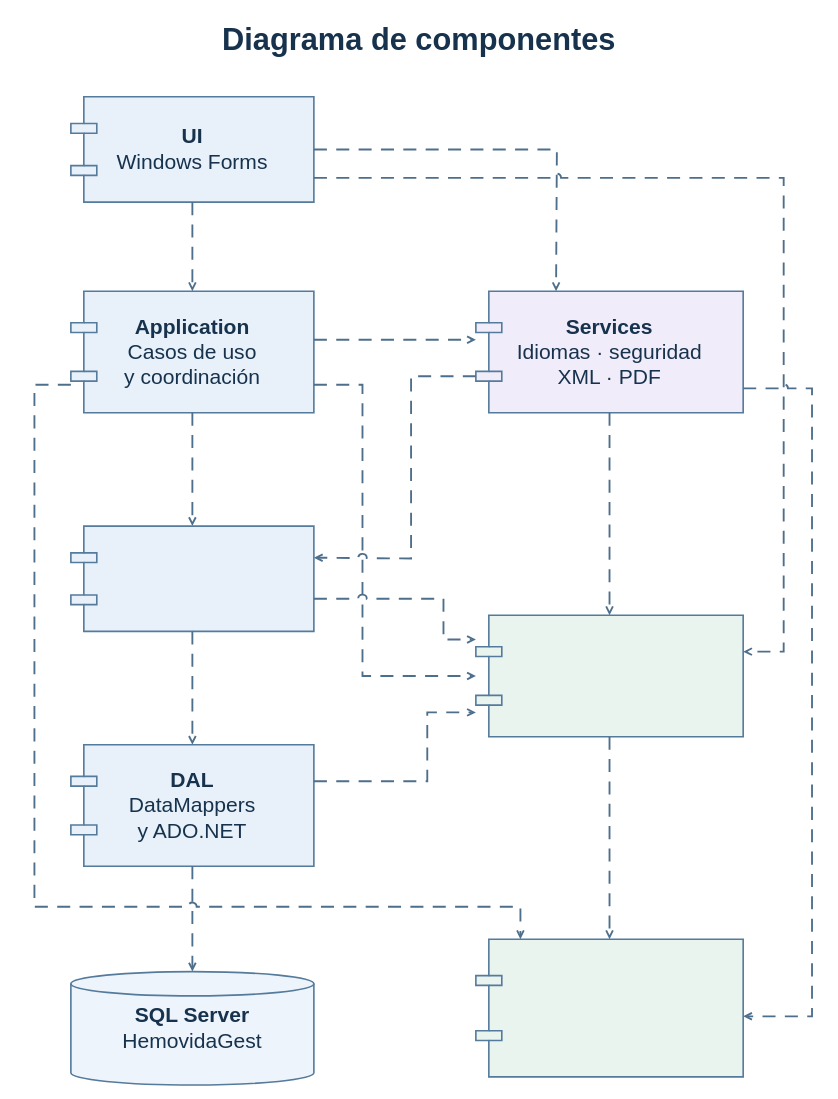
Some shapes in this 838 by 1099 pixel diagram are drawn without their labels. The box of each missing label's shape, as (x1, y1, x2, y2) in pixels:
Abstractions Interfaces y tipos comunes: (475, 938, 744, 1077)
Domain Entidades y resultados: (475, 614, 744, 737)
Repository Repositorios: (70, 525, 314, 632)
